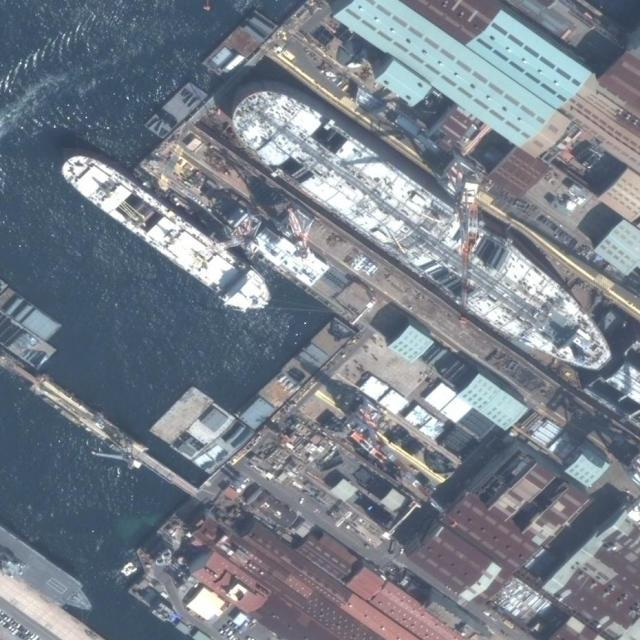Cargo: (52, 138, 281, 326)
Oil Tanker: (210, 66, 634, 396)
